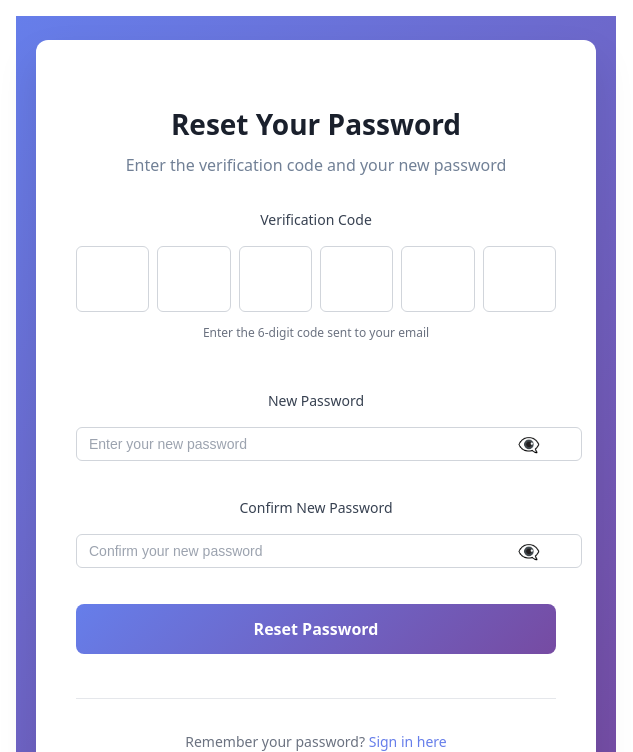
Test case: ResetPasswordForm › handles paste operation in OTP input
The image size is (633, 752).
# Simulate paste event
Click the 1st field.
click(113, 279)  # box [76,246,149,312]
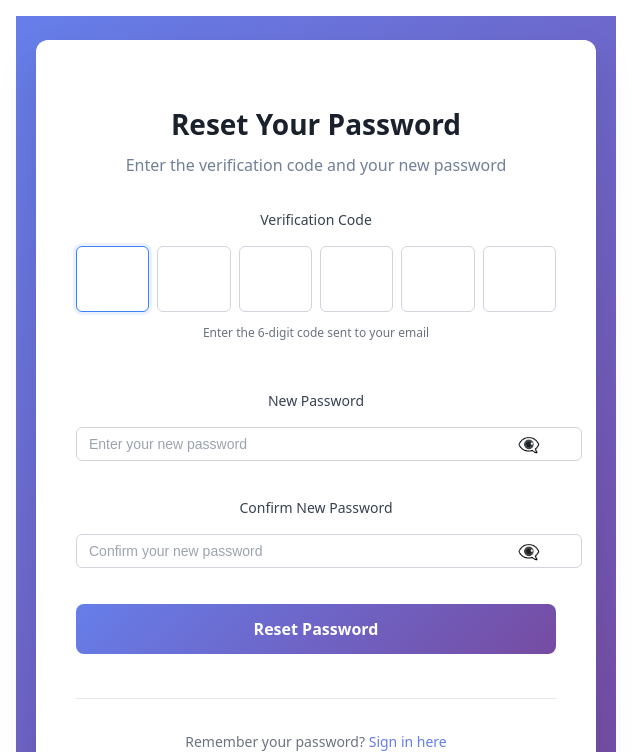
Type keys "123456"
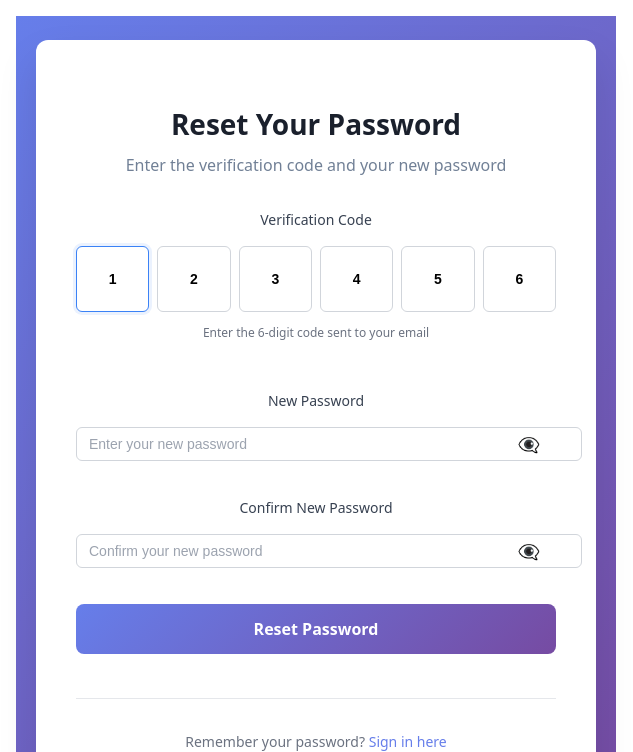
Result: the 1st field holds "1" at [76,246,149,312]
Result: the 2nd field holds "2" at [157,246,231,312]
Result: the 3rd field holds "3" at [239,246,312,312]
